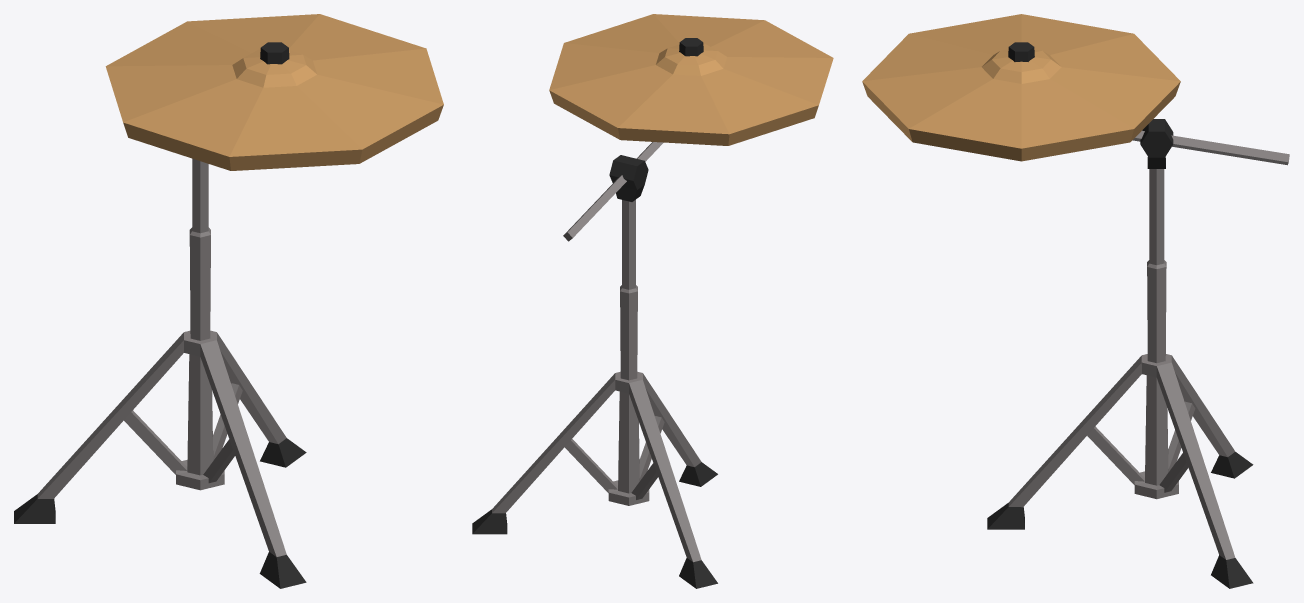
The model's file is drum-cymbal.glb.
3 renders of one model, left to right at view 1: azimuth 30°, elevation 25°; view 2: azimuth 150°, elevation 25°; view 3: azimuth 270°, elevation 25°, orthographic. The views are drawn at different scales.
Visible parts, largest first — view 1: drum-cymbal; view 2: drum-cymbal; view 3: drum-cymbal.
Boxes of the visible parts, x1=… form: drum-cymbal: x1=14, y1=14, x2=443, y2=588; drum-cymbal: x1=472, y1=14, x2=833, y2=588; drum-cymbal: x1=862, y1=14, x2=1289, y2=588.
Bounding box in the file's own units: 0.6 × 0.9909 × 0.8051.
1 material, 1 textured.
